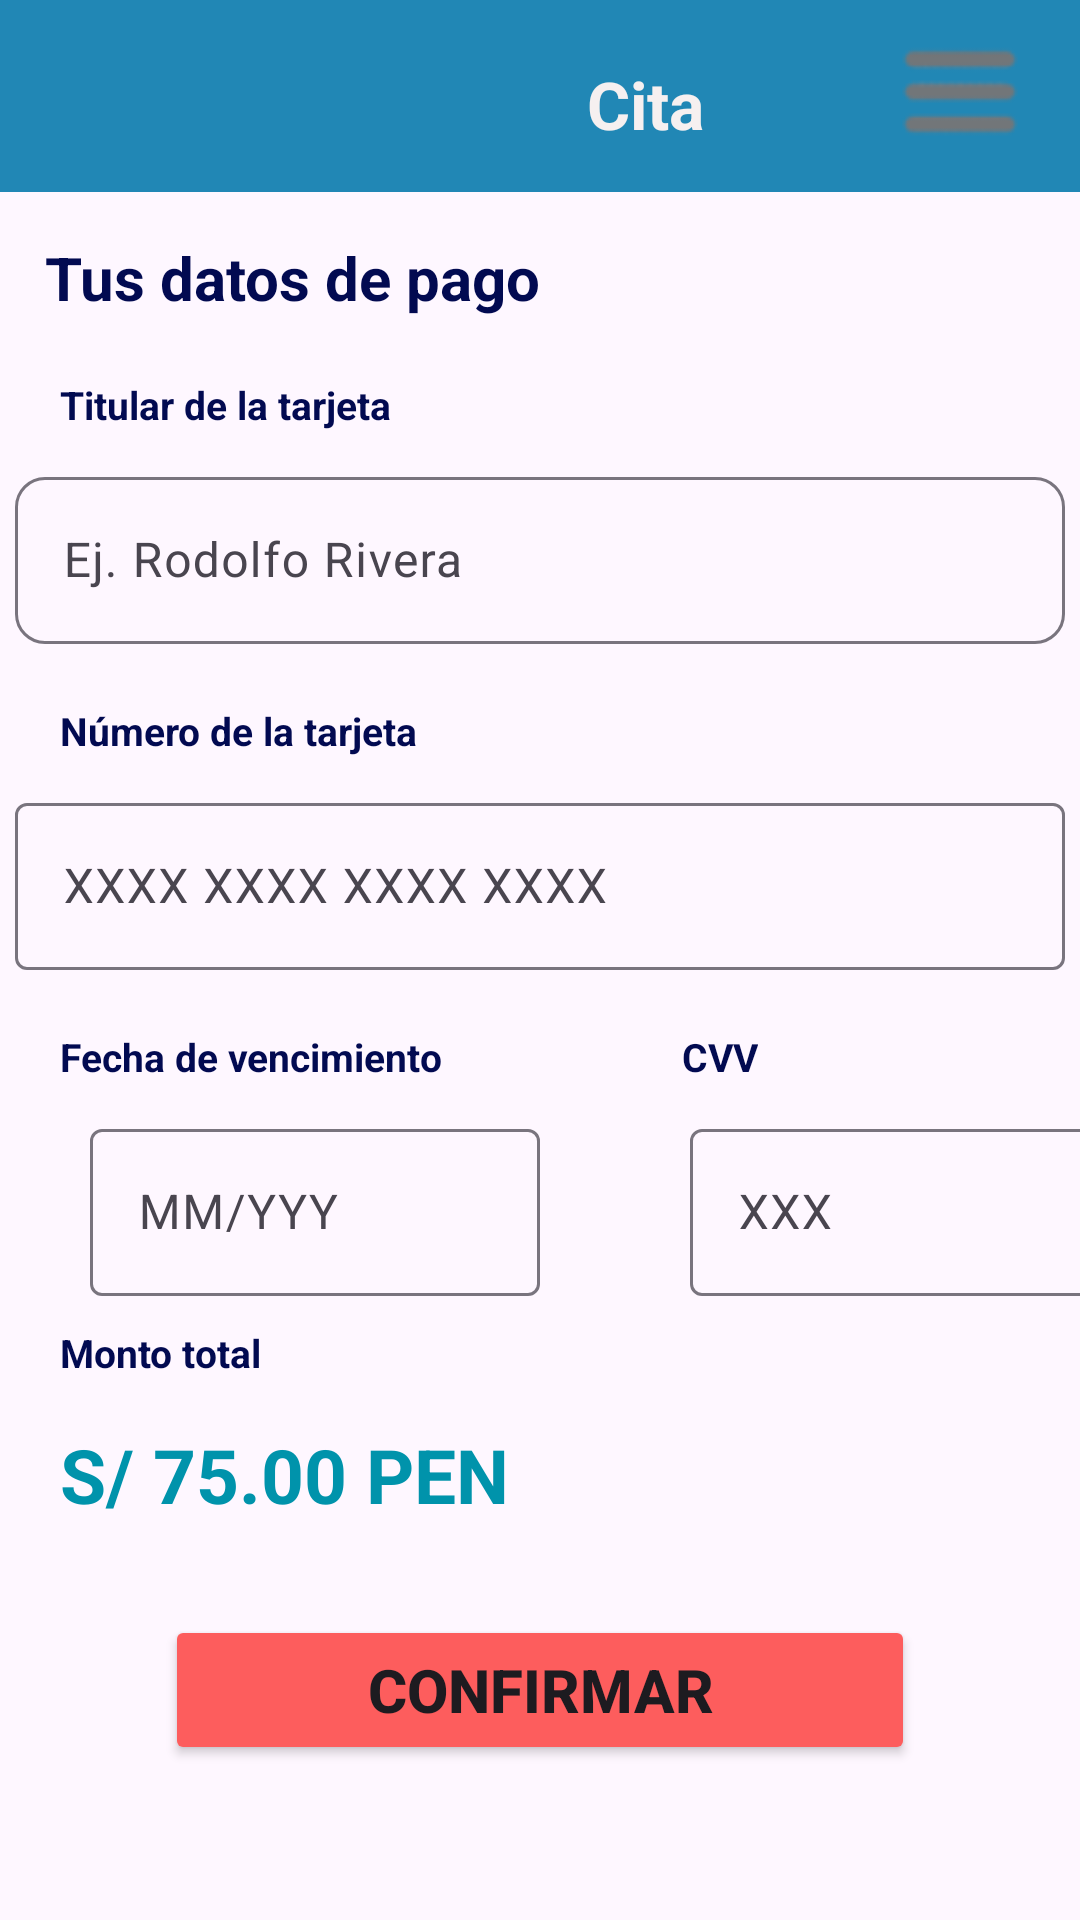

Named icons in this screenshot (1080w x 1920h) and their bounding boxes, detection(x1, y1, x2, y2):
menu: detection(904, 50, 1015, 133)
